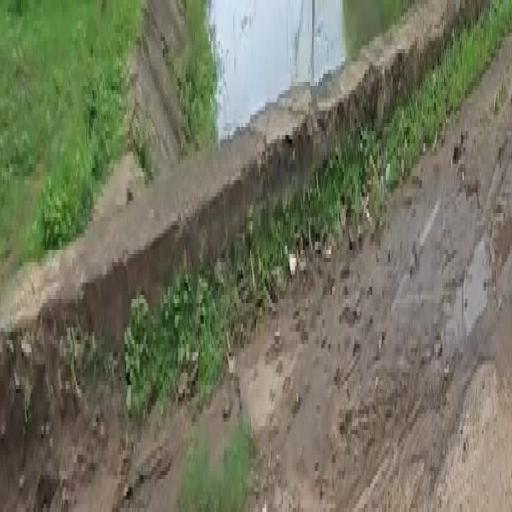drainage_issue: (32, 8, 433, 467)
